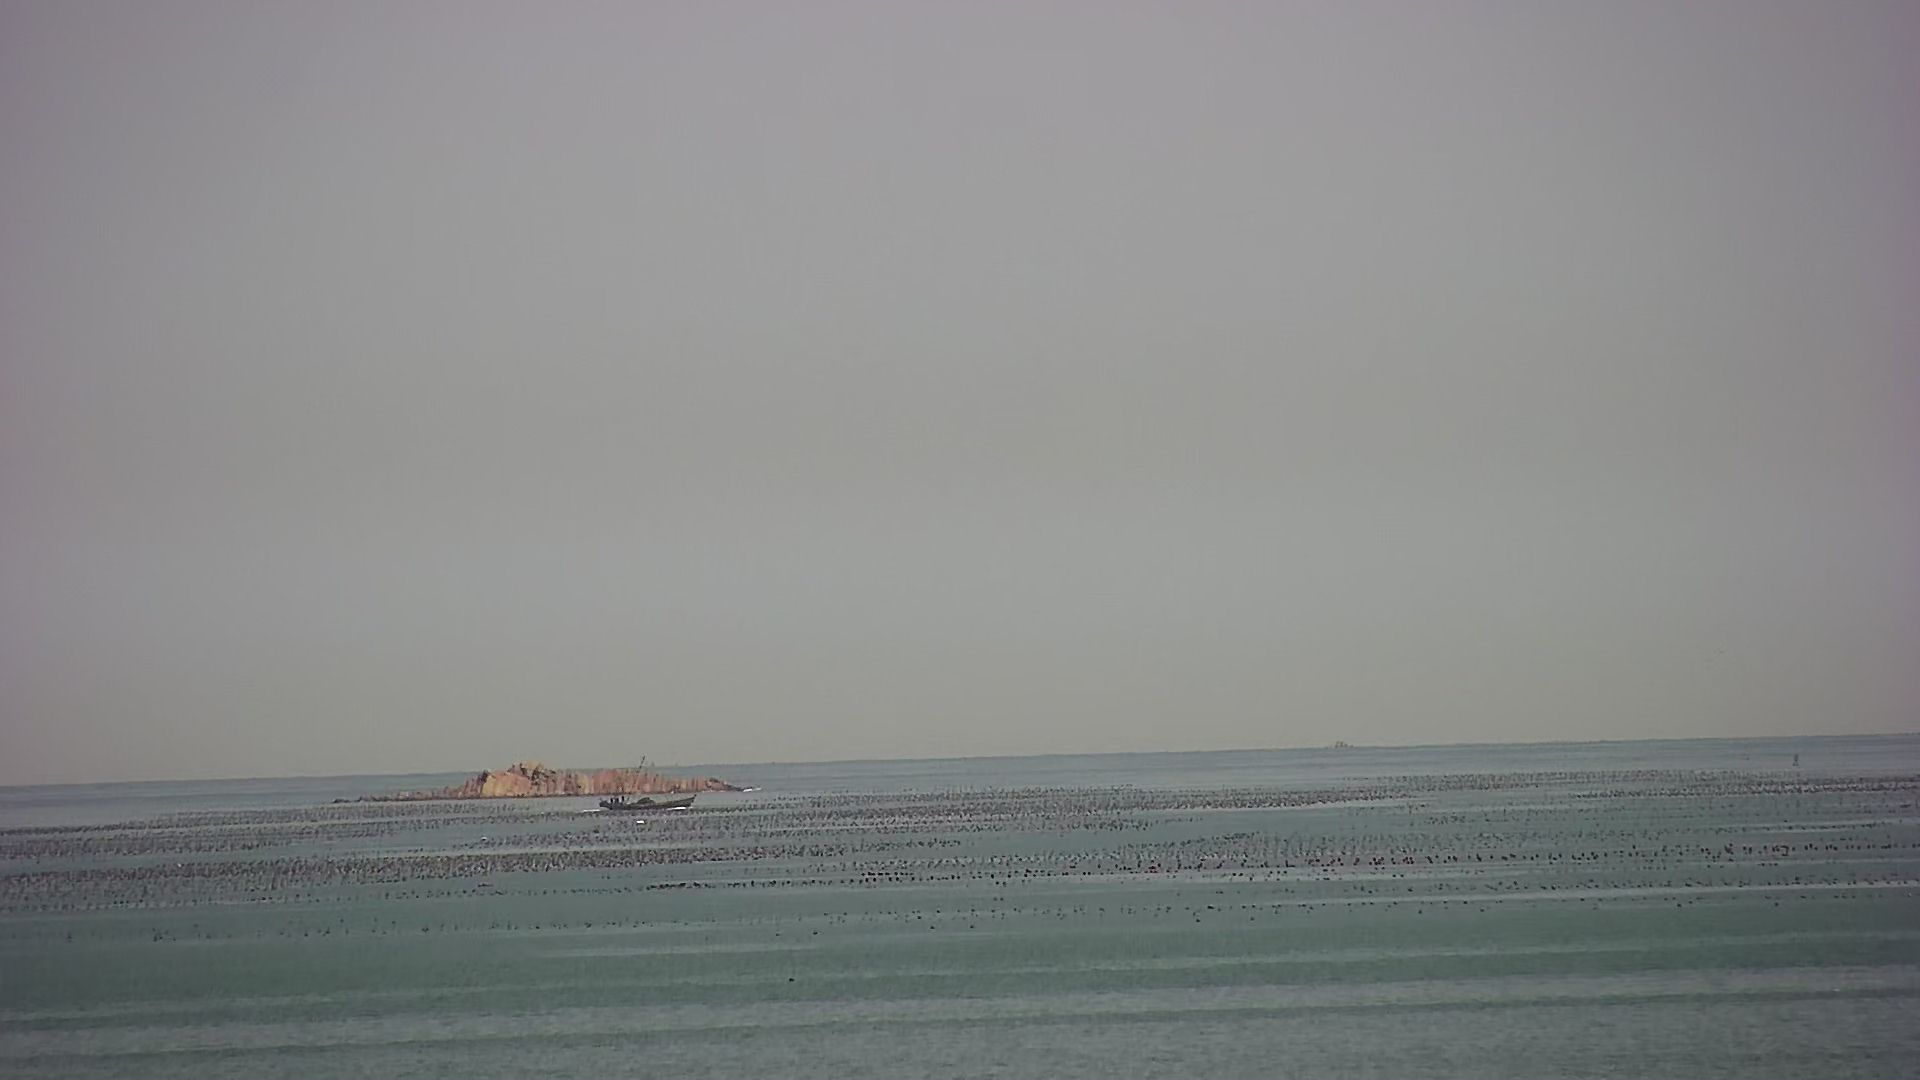boat: (593, 756, 698, 816)
rock: (324, 756, 769, 806)
